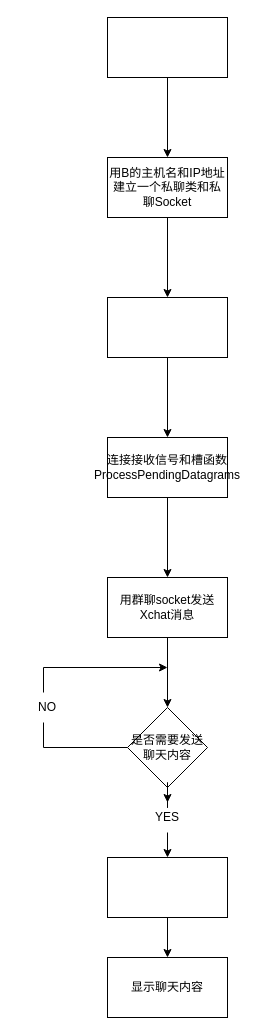
The diagram is 257 pixels wide and 1035 high, and some of its shapes have lost their labels. Here are the shapes that lost their labels. From the top down, the centre of each, then its label:
pixel 167 47: A用户双击B用户框
pixel 167 327: 将该socket绑定到本地IP和私聊专用端口
pixel 167 887: 发送聊天内容Message消息
